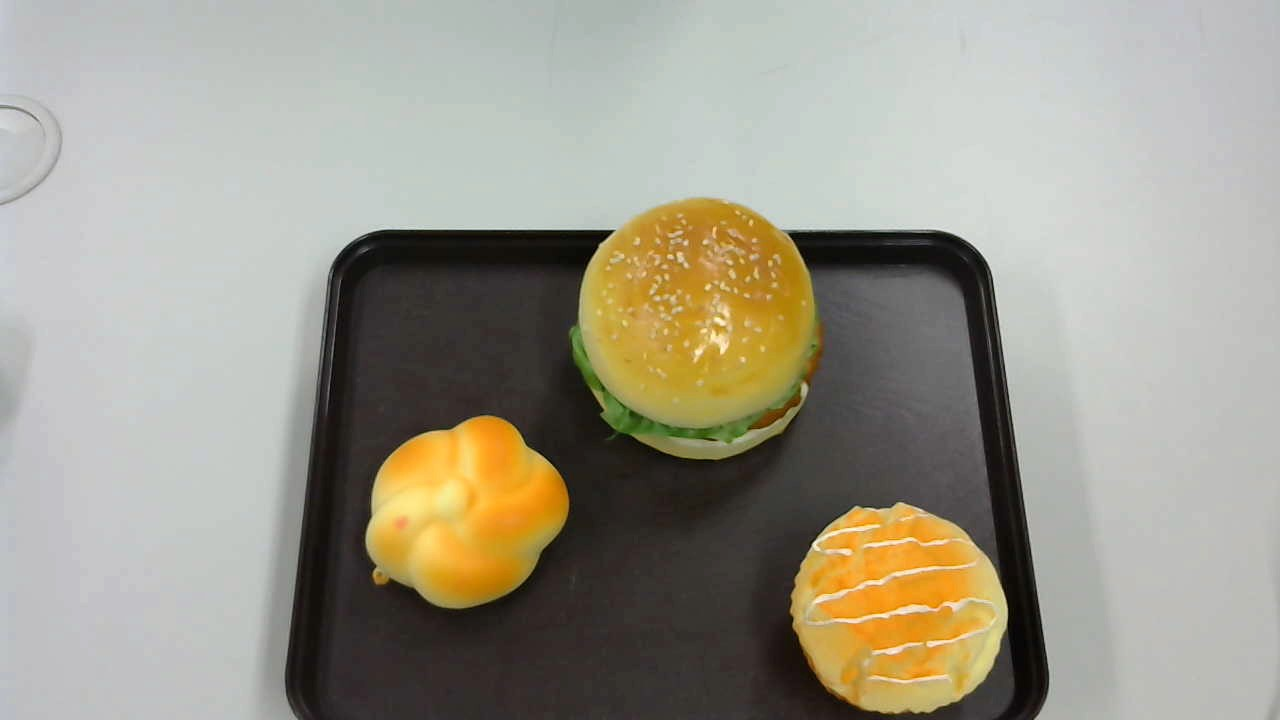cupcake: (788, 502, 1008, 715)
hamburger: (567, 197, 825, 461)
twist bread: (364, 415, 570, 609)
